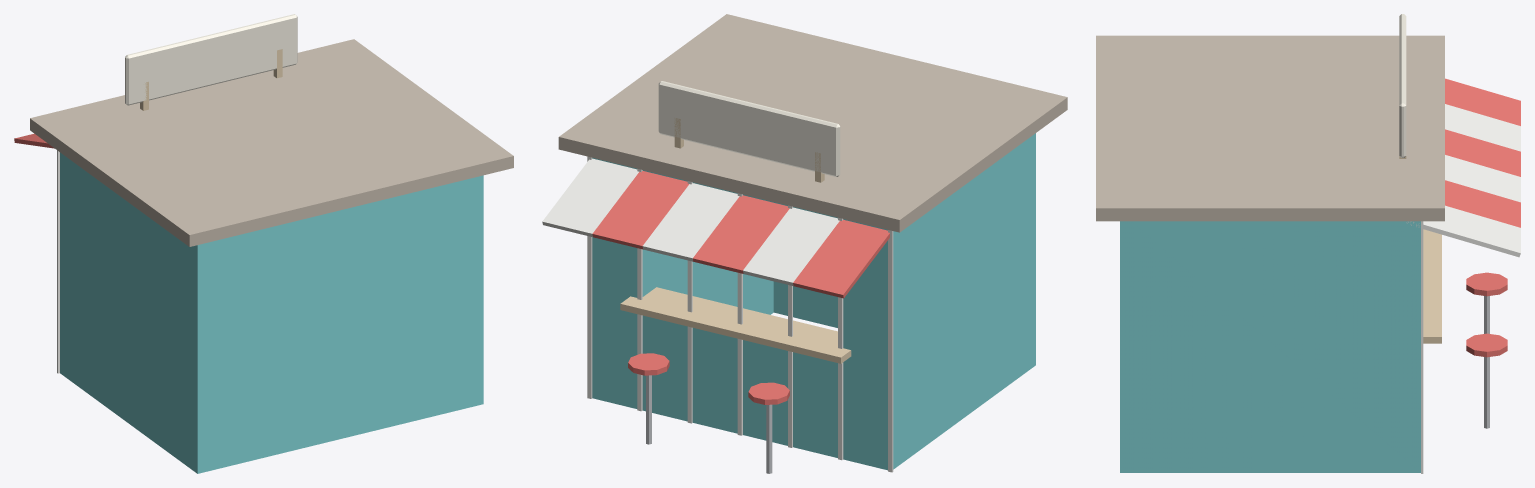
File: food_stand.glb
The picture shows the model from 3 angles, left to right: view 1: azimuth 30°, elevation 25°; view 2: azimuth 150°, elevation 25°; view 3: azimuth 270°, elevation 25°; orthographic projection. The views are drawn at different scales.
Visible parts, largest first — view 1: body; view 2: body; view 3: body.
Boxes of the visible parts, <box> form: body: <box>14,14,513,473</box>; body: <box>542,14,1067,473</box>; body: <box>1096,14,1520,473</box>.
Size of the model in its own units: 3.4 by 3.1 by 3.53.
